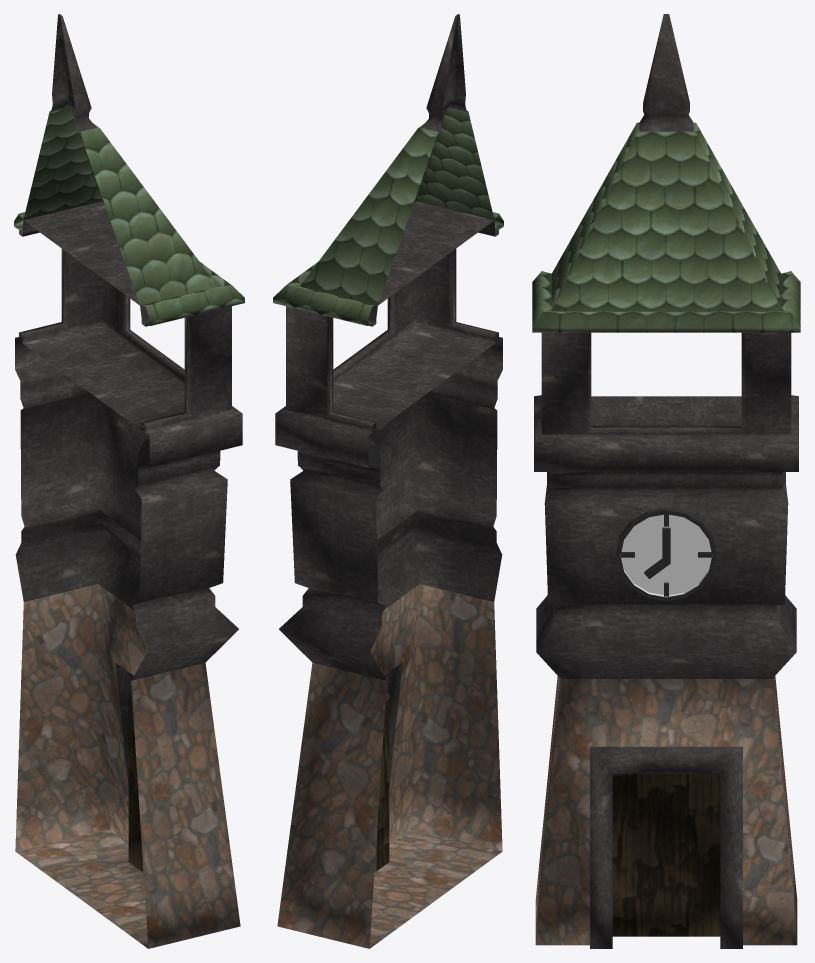
File: TowerScaled.fbx
The picture shows the model from 3 angles, left to right: view 1: azimuth 30°, elevation 25°; view 2: azimuth 150°, elevation 25°; view 3: azimuth 270°, elevation 25°; orthographic projection.
Visible parts, largest first — view 1: Circle; view 2: Circle; view 3: Circle.
Part boxes in pixels (<box>): Circle: <box>14,14,244,948</box>; Circle: <box>273,14,503,948</box>; Circle: <box>532,14,800,948</box>.
Bounding box in the file's own units: 530 × 3693 × 1024.
Materials: 6 (6 with a texture image).
